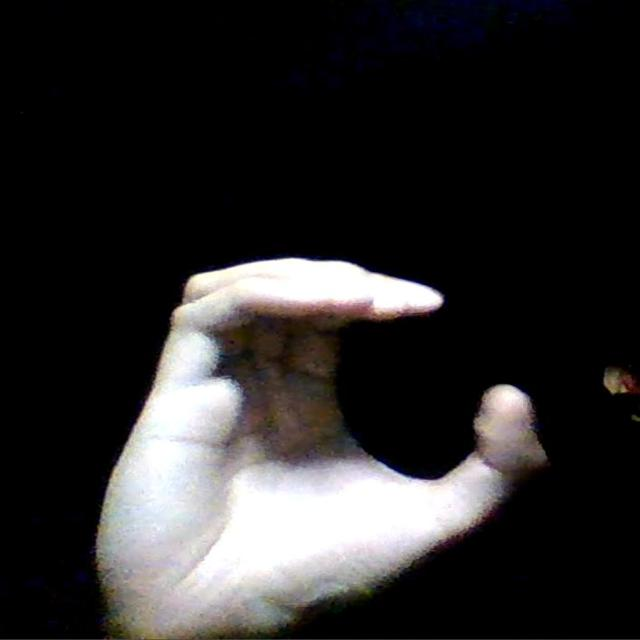C: (93, 254, 552, 640)
